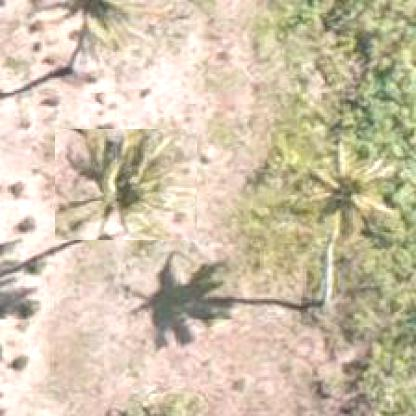coconut tree: (54, 129, 197, 241), (298, 144, 402, 244)
